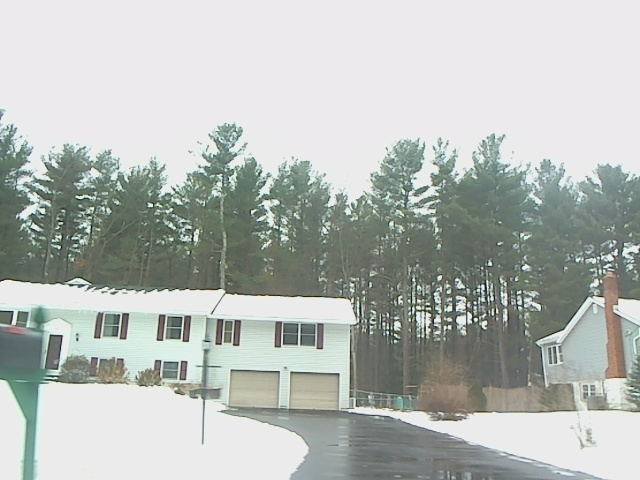Ploughed: (229, 409, 492, 480)
